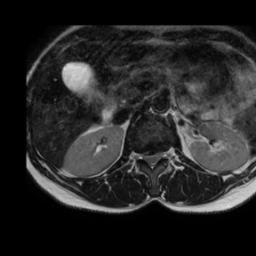CCS_normal: (149, 146, 155, 173)
LFS_normal: (163, 144, 169, 164)
LLS_normal: (156, 147, 163, 167)
RFS_normal: (135, 147, 143, 164)
RLS_stenosis: (142, 147, 149, 168)
